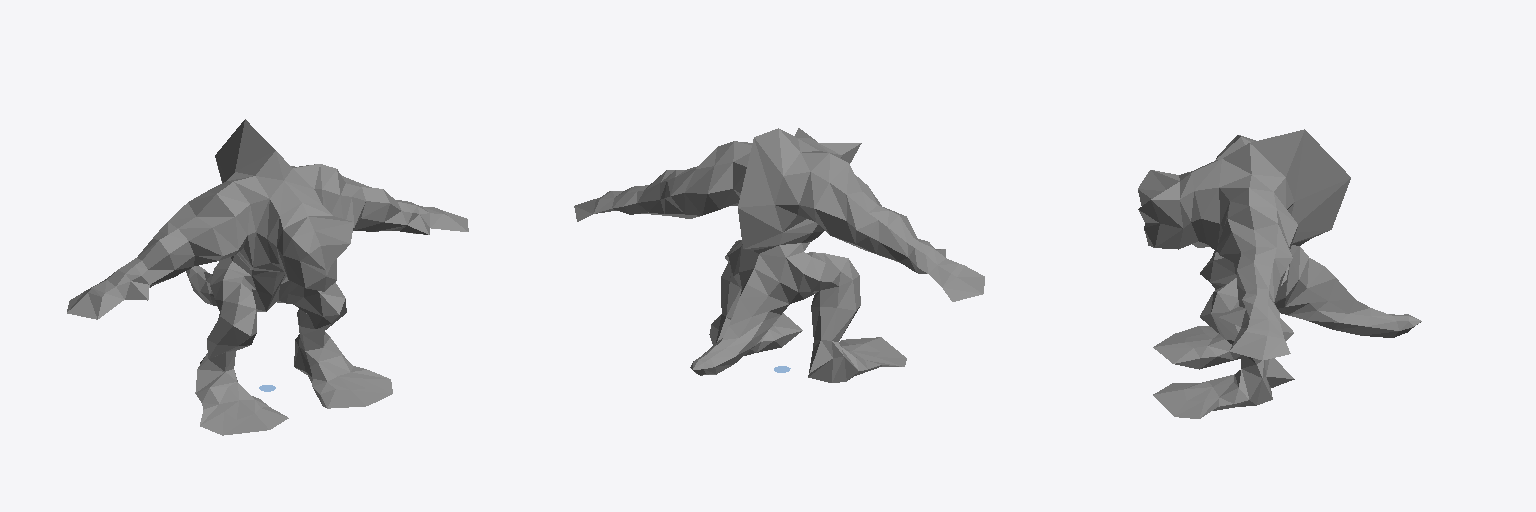
Rendered from seademon.obj.
3 renders of one model, left to right at view 1: azimuth 30°, elevation 25°; view 2: azimuth 150°, elevation 25°; view 3: azimuth 270°, elevation 25°, orthographic.
Parts seen in each view (by area): view 1: SeaDemon_MESH; view 2: SeaDemon_MESH; view 3: SeaDemon_MESH.
Boxes of the visible parts, <box> form: SeaDemon_MESH: <box>67,119,468,435</box>; SeaDemon_MESH: <box>574,128,984,382</box>; SeaDemon_MESH: <box>1138,129,1421,418</box>.
Bounding box in the file's own units: 93.27 × 56.03 × 56.74.